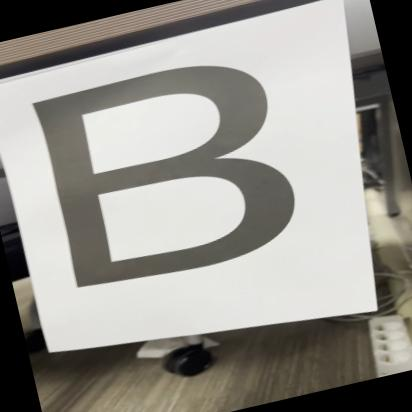seat: (10, 34, 332, 312)
